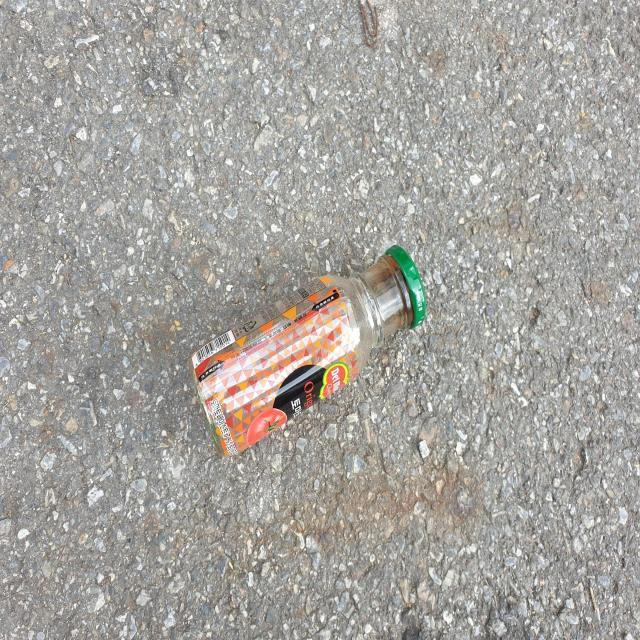glass: (190, 246, 426, 456)
